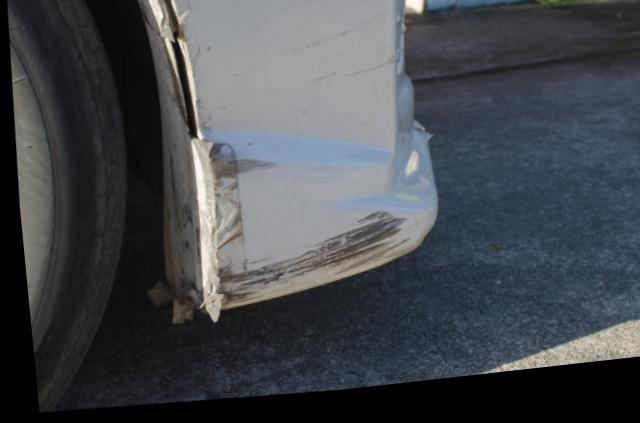scratch: (210, 217, 409, 309)
